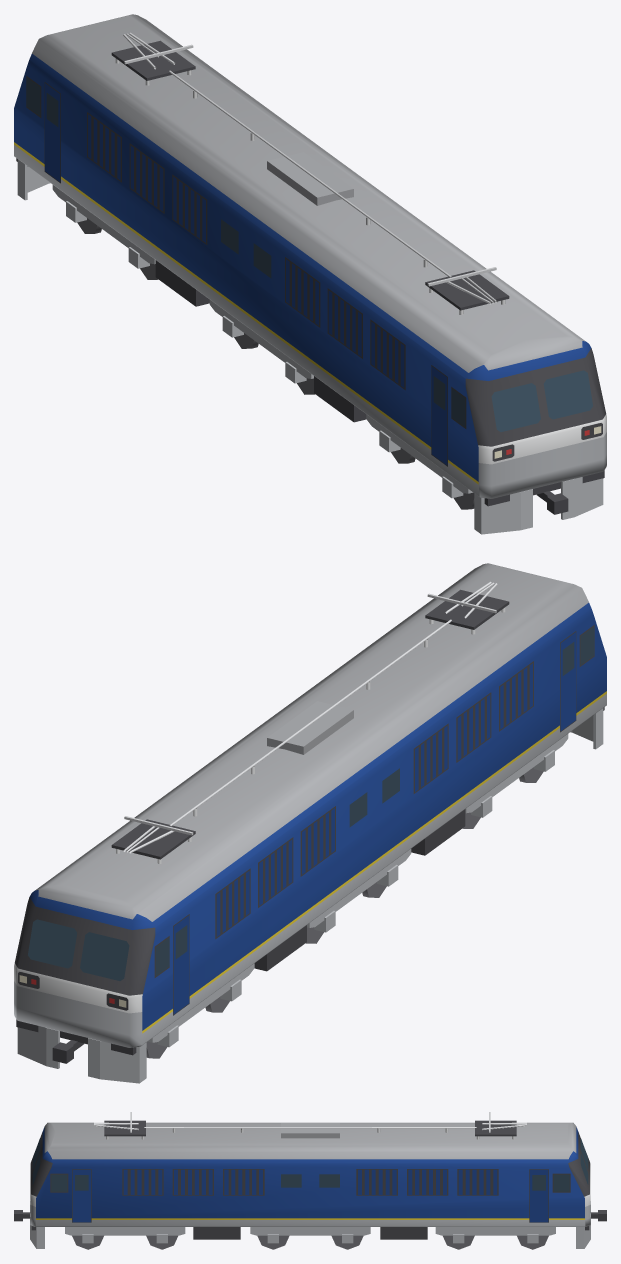
3 renders of one model, top to bottom at view 1: azimuth 30°, elevation 25°; view 2: azimuth 150°, elevation 25°; view 3: azimuth 270°, elevation 25°, orthographic. The views are drawn at different scales.
Visible parts, largest first — view 1: 22_0; view 2: 22_0; view 3: 22_0.
Part boxes in pixels (x1,y1,x2,y2): 22_0: (14, 14, 606, 534); 22_0: (14, 563, 606, 1083); 22_0: (14, 1112, 606, 1249).
Bounding box in the file's own units: 2.97 × 4.36 × 20.
